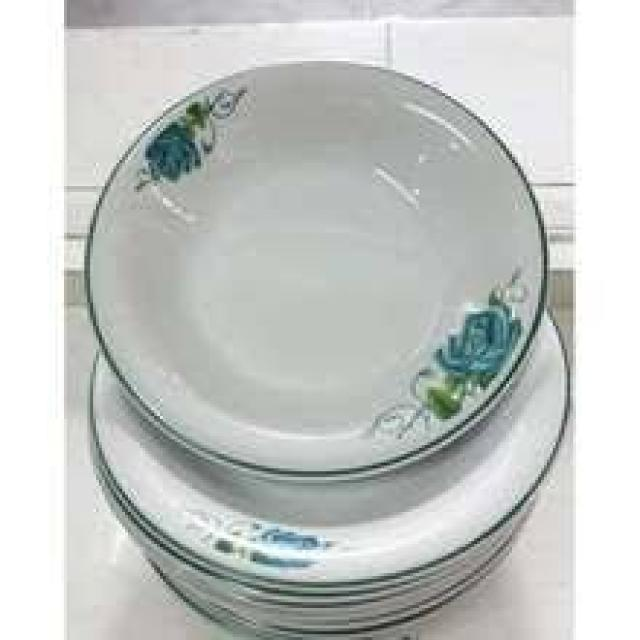Plate: (77, 45, 560, 508)
